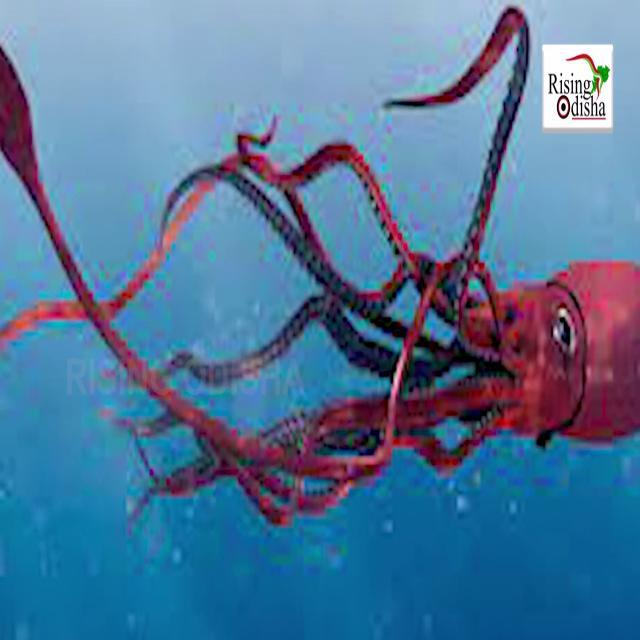squid: (385, 198, 640, 479)
